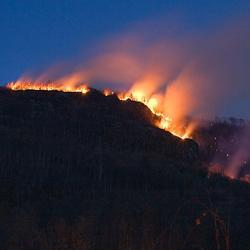fire: (13, 80, 88, 91), (131, 88, 161, 109), (161, 116, 196, 134)
